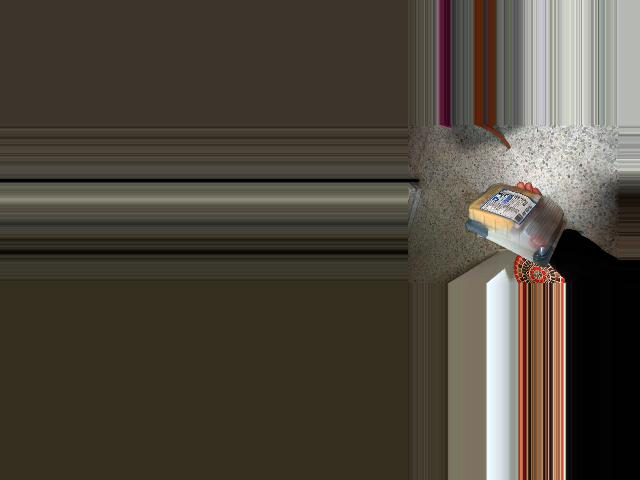cheese: (461, 181, 581, 265)
